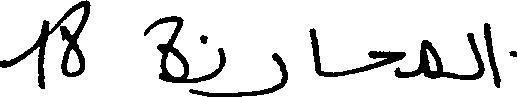X: (0, 15, 46, 93), (144, 11, 188, 87), (240, 48, 288, 96), (190, 30, 224, 96), (486, 18, 516, 92), (61, 0, 88, 81), (368, 46, 404, 82), (469, 19, 484, 84), (423, 35, 442, 83), (310, 23, 321, 80)
